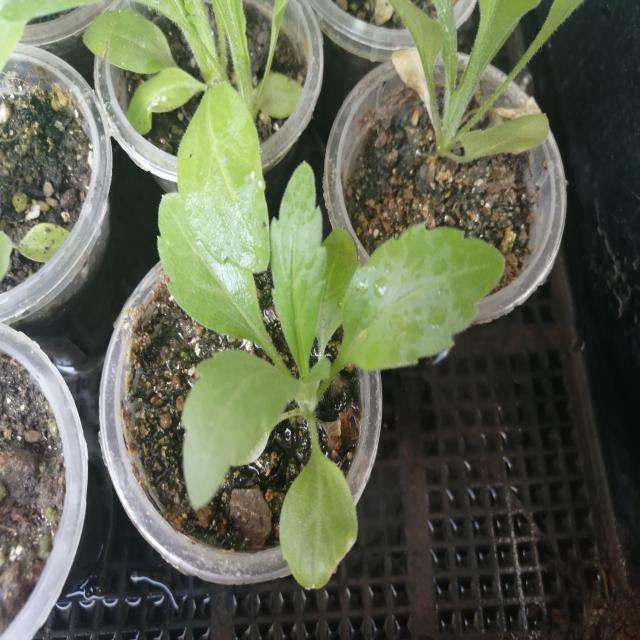horseweed: (137, 95, 463, 551)
